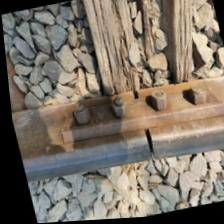person: (119, 121, 175, 174), (124, 87, 145, 107)
